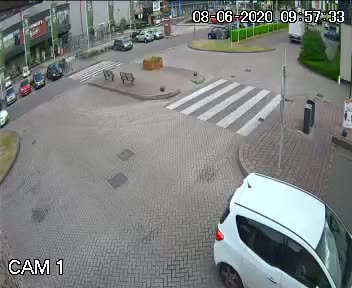car: (194, 160, 352, 288), (278, 20, 311, 47)
